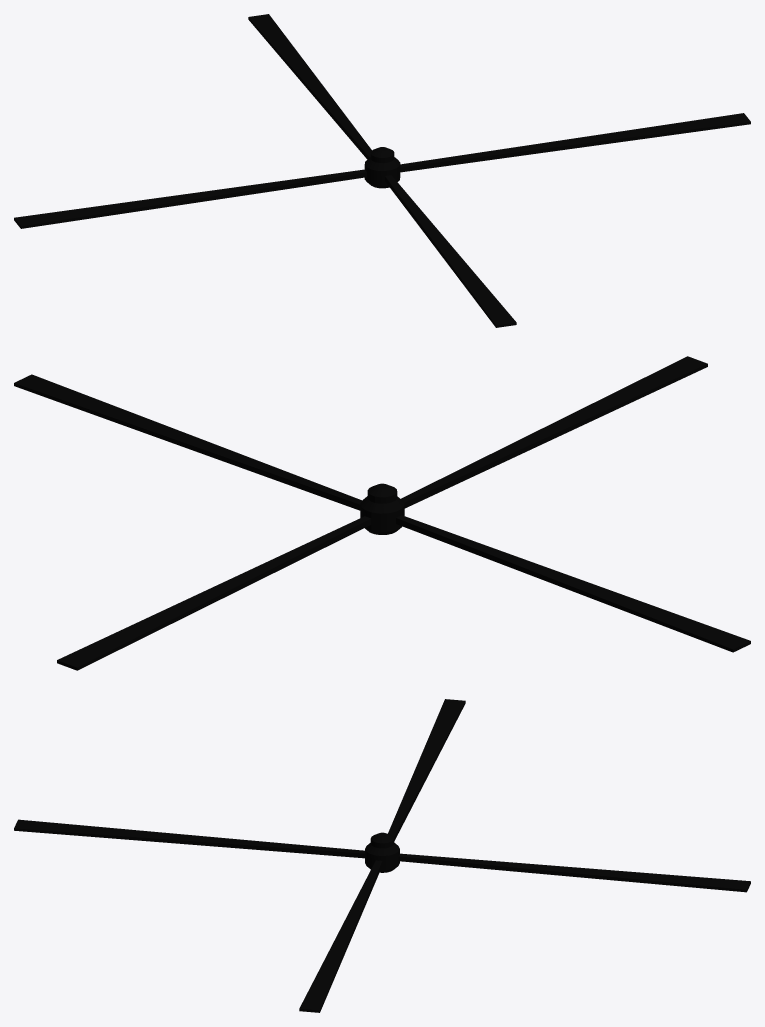
File: pervane.glb
The picture shows the model from 3 angles, top to bottom: view 1: azimuth 30°, elevation 25°; view 2: azimuth 150°, elevation 25°; view 3: azimuth 270°, elevation 25°; orthographic projection. The views are drawn at different scales.
Parts seen in each view (by area): view 1: Cylinder.002; view 2: Cylinder.002; view 3: Cylinder.002.
Part boxes in pixels (x1=…): Cylinder.002: x1=14, y1=14, x2=750, y2=327; Cylinder.002: x1=14, y1=356, x2=750, y2=670; Cylinder.002: x1=14, y1=699, x2=750, y2=1012.
Bounding box in the file's own units: 3.22 × 0.1588 × 3.22.
Materials: 1 (1 with a texture image).
